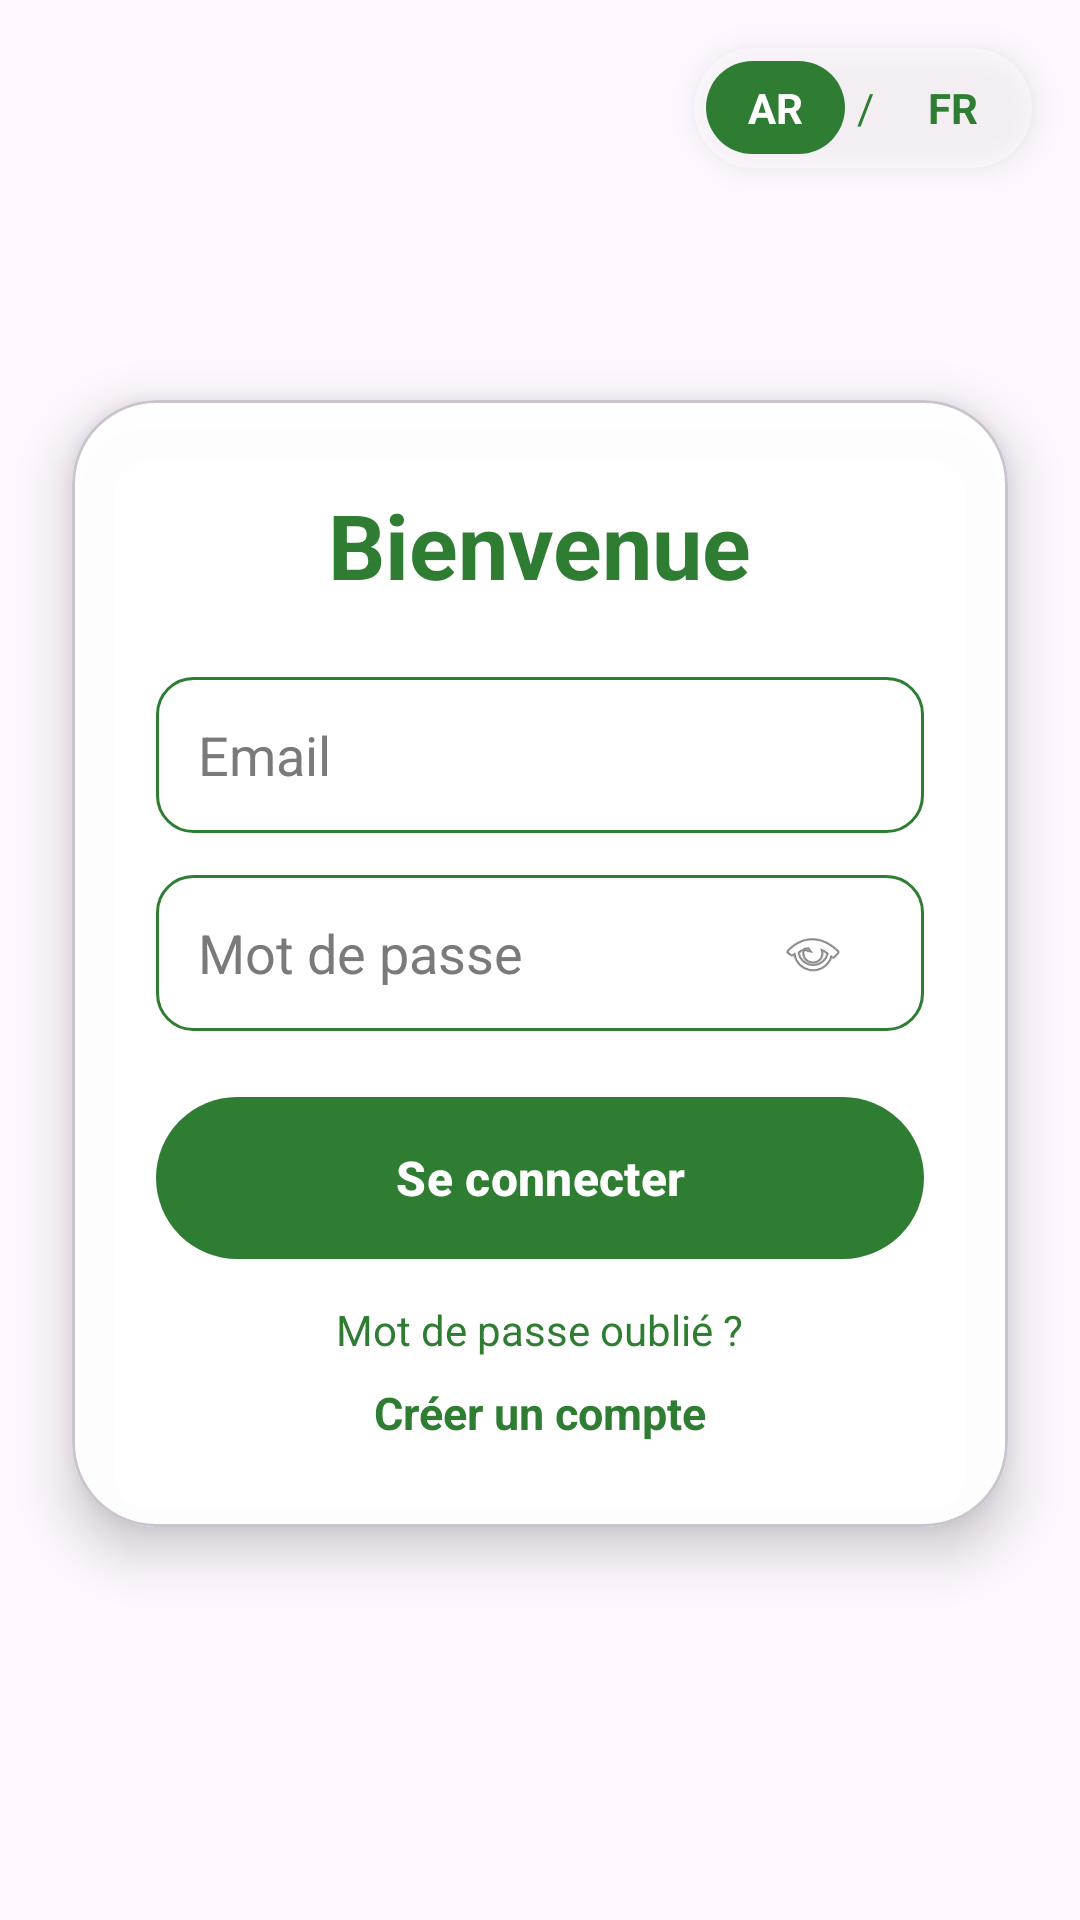

Screen size 1080 × 1920. Icon name, then its center in pixels as [x,y]:
show password: [813,955]
